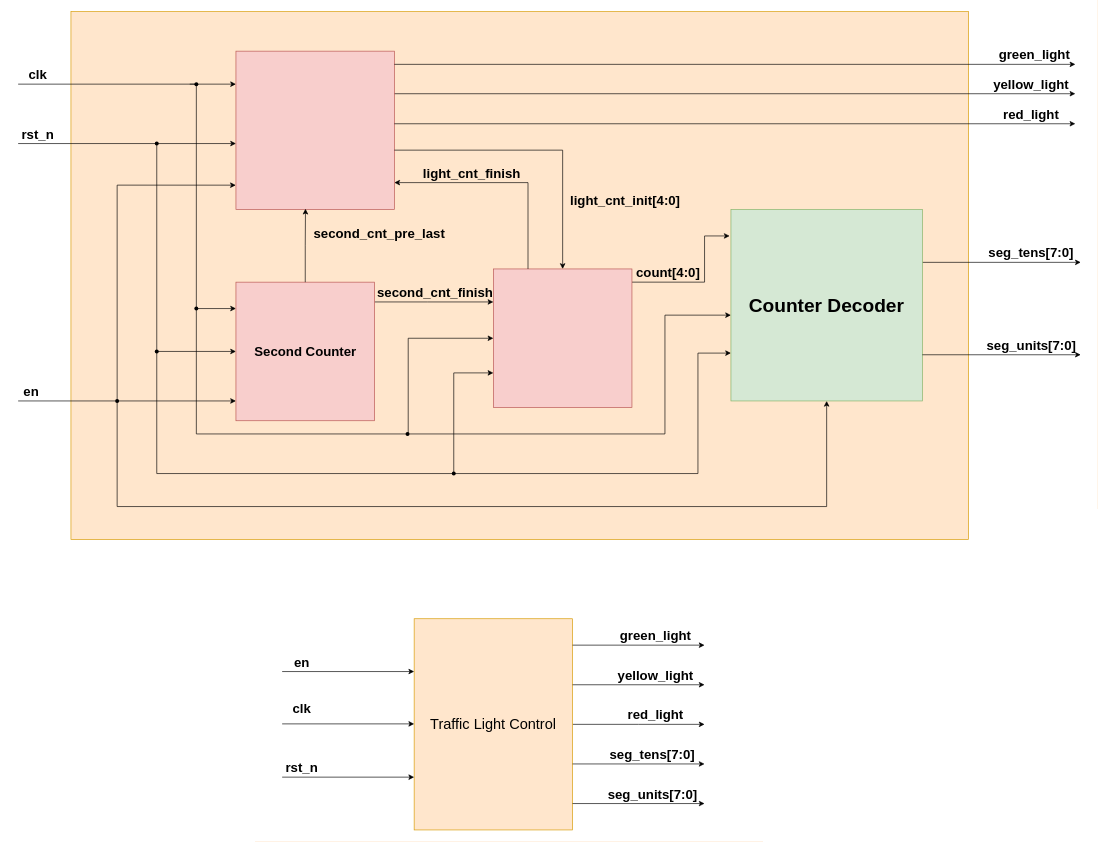
This 1098x842 diagram has some shape labels left out. Each missing label, with the centre of its shape:
"FSM" goes at point (314, 130).
"Light Counter" goes at point (562, 338).
